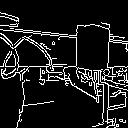cube: (69, 22, 115, 71)
